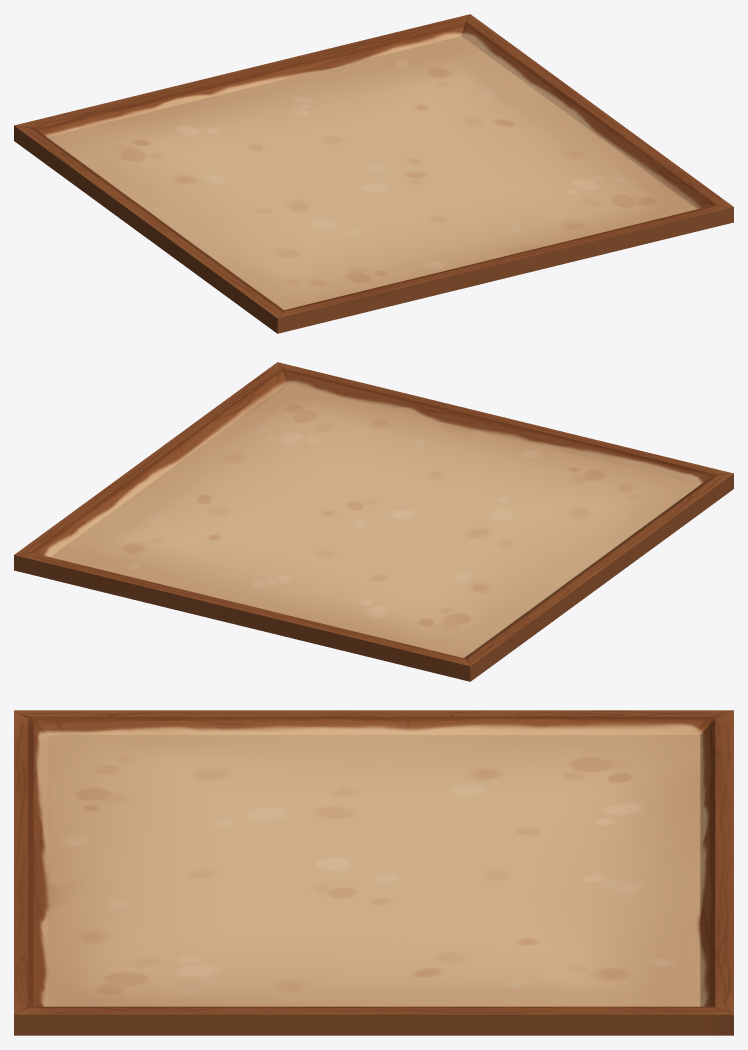
The model's file is pit_base.fbx.
3 renders of one model, top to bottom at view 1: azimuth 30°, elevation 25°; view 2: azimuth 150°, elevation 25°; view 3: azimuth 270°, elevation 25°, orthographic. The views are drawn at different scales.
Parts seen in each view (by area): view 1: pit_base_single; view 2: pit_base_single; view 3: pit_base_single.
Boxes of the visible parts, x1,y1,x2,y2 form: pit_base_single: (14,14,733,333); pit_base_single: (14,362,733,681); pit_base_single: (14,710,733,1035).
Bounding box in the file's own units: 145 × 4.7 × 145.
